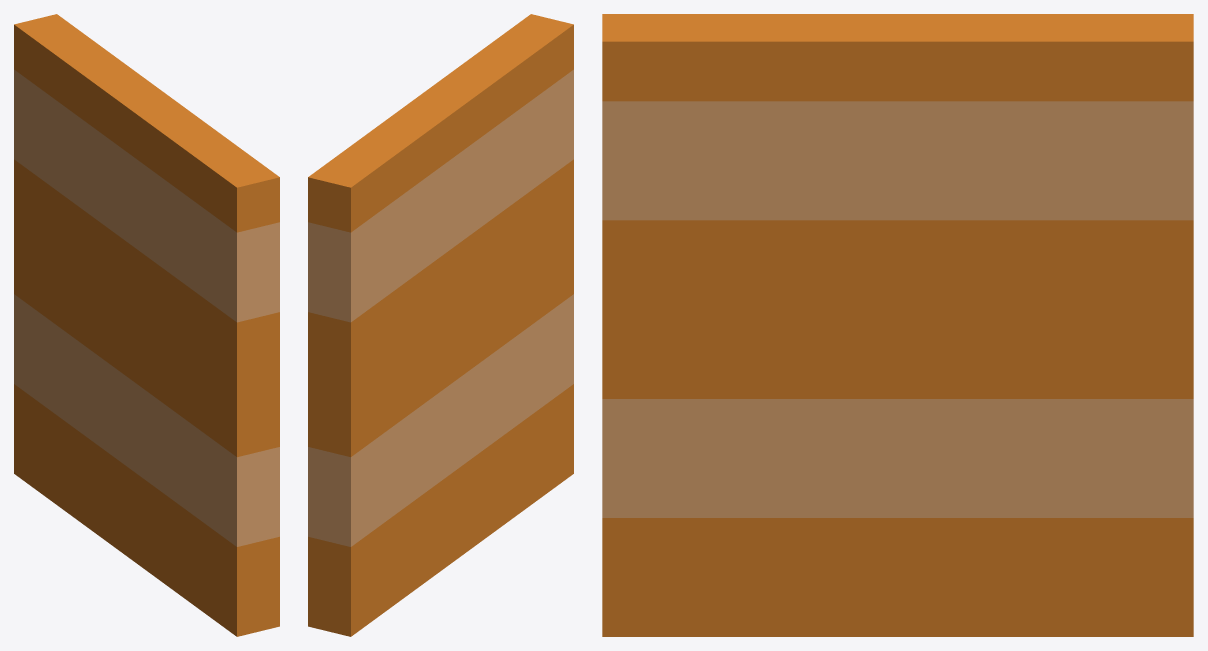
File: dirt_wall_D_9.obj
The picture shows the model from 3 angles, left to right: view 1: azimuth 30°, elevation 25°; view 2: azimuth 150°, elevation 25°; view 3: azimuth 270°, elevation 25°; orthographic projection. The views are drawn at different scales.
Bounding box in the file's own units: 0.1 × 1 × 0.9.
Materials: 1 (1 with a texture image).
